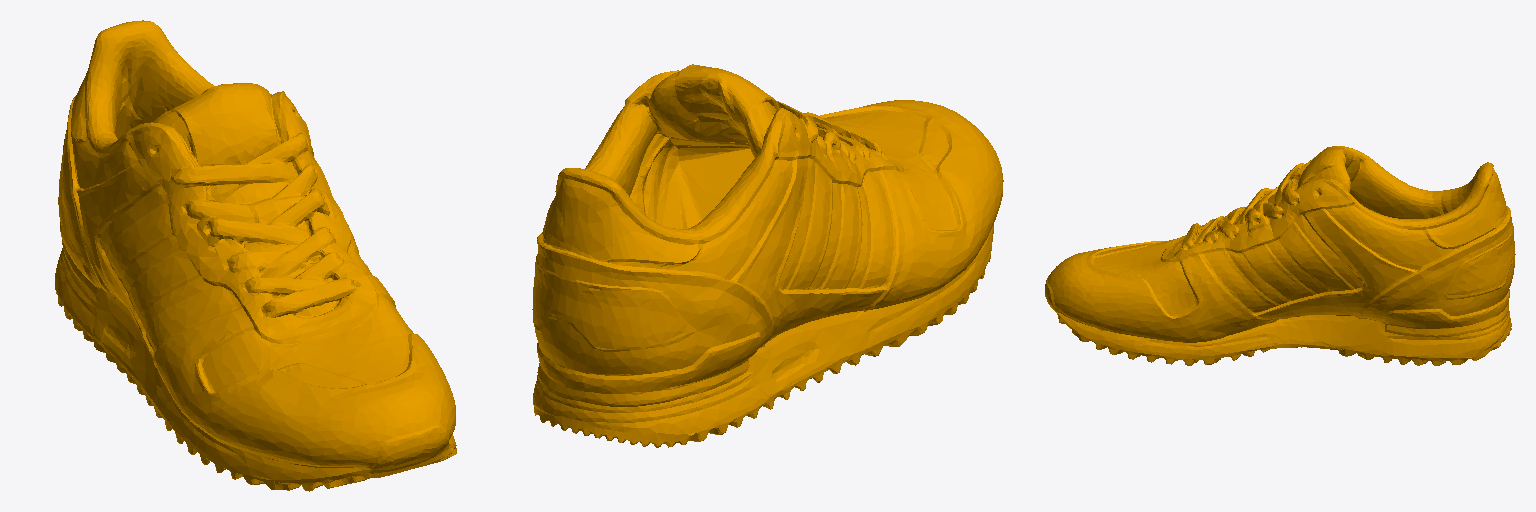
robot.urdf — 3nrnrf6s:
<?xml version='1.0'?>

<robot name="3nrnrf6s">
    <static>false</static>
    <link name="link">
        <inertial>
            <mass value="0.03674876208883267"/>
            <inertia ixx="4.192412051211576e-05" ixy="-2.2277300811737727e-06" ixz="-8.452083953515972e-07"
                     iyy="1.0340351093769366e-05" iyz="-3.594360455030663e-06" izz="4.043239121805179e-05"/>
        </inertial>
        <collision name="collision">
            <geometry>
                <mesh filename="package://miscnet/train/3nrnrf6s/collision_model_vhacd.obj"/>
            </geometry>
        </collision>
        <visual name="visual">
            <geometry>
                <mesh filename="package://miscnet/train/3nrnrf6s/visual_model.obj"/>
            </geometry>
        </visual>
    </link>
</robot>

--- What the picture shows (computed from the rendered views, not written in the file) ---
Views: 3 orthographic renders of the robot side by side, from view 1: azimuth 30°, elevation 25°; view 2: azimuth 150°, elevation 25°; view 3: azimuth 270°, elevation 25°.
Model 3nrnrf6s with 1 links and 0 joints (none), rooted at link, posed every joint at zero.
Links seen in each view (by area): view 1: link; view 2: link; view 3: link.
Link boxes in pixels (x1,y1,x2,y2): link: (55, 20, 456, 491); link: (532, 64, 1003, 447); link: (1045, 146, 1515, 365).
Size in the robot's own frame: 0.0461 by 0.123 by 0.0554 metres.
1 mesh visuals loaded from 1 distinct referenced files (1 OBJ).
